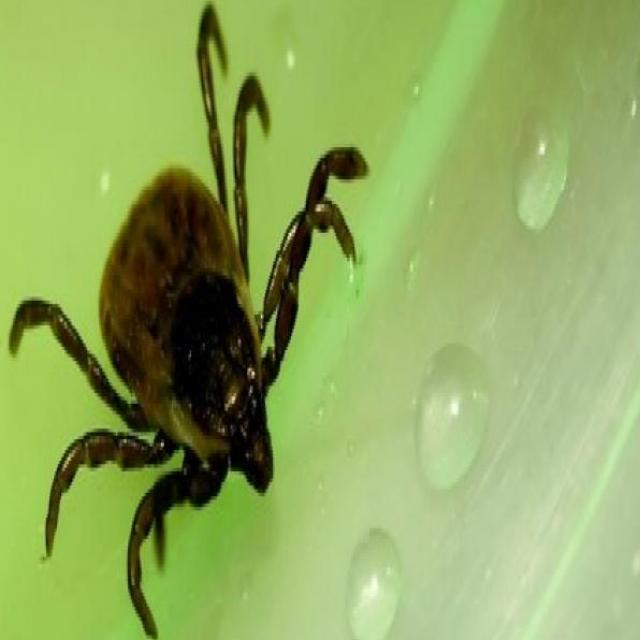Rhipicephalus Sanguineus-F: (7, 1, 371, 640)
